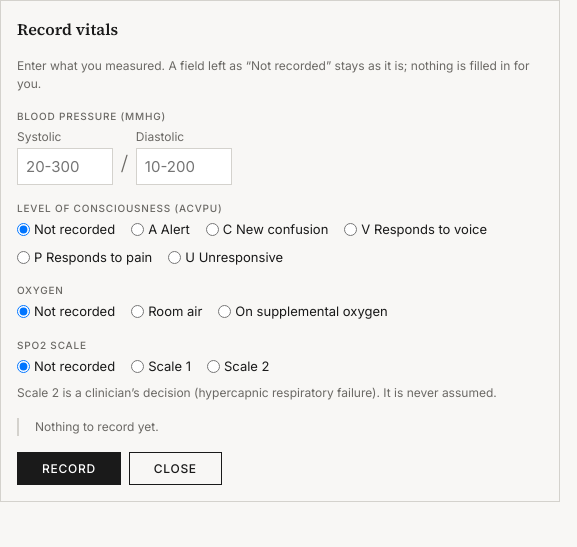
Scenario: a draft that cannot be sent never reaches the network › refuses a value outside the bounds and says why, in the form
The image size is (577, 547).
Type "400" into the field labelled "Systolic" at (65, 166), box left=17, top=148, right=113, bottom=185
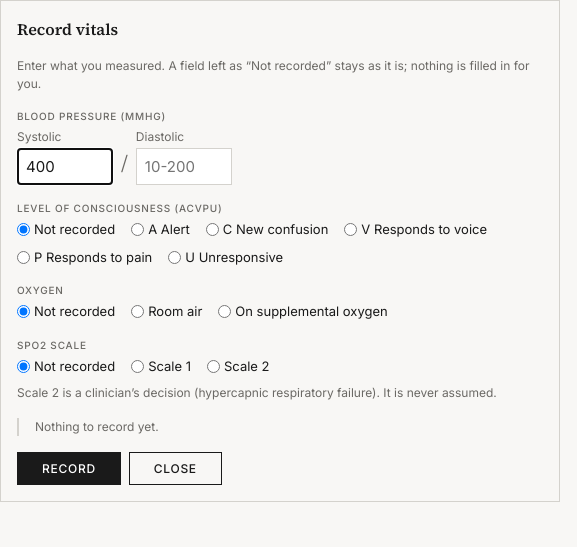
Type "80" into the field labelled "Diastolic" at (184, 166), box left=136, top=148, right=232, bottom=185
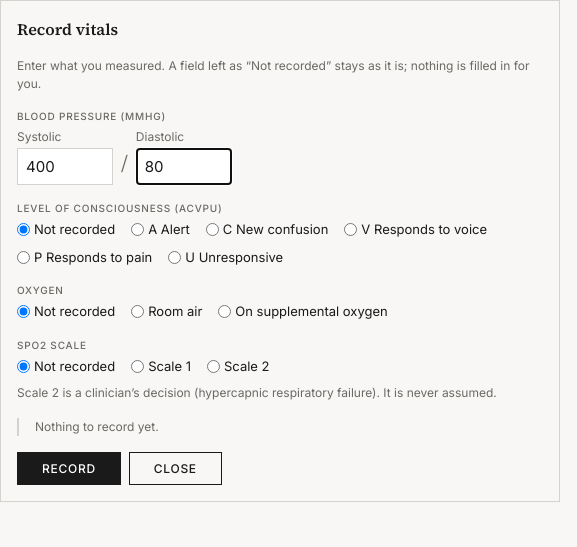
Click the button "Record" at (69, 468), box left=17, top=452, right=121, bottom=485
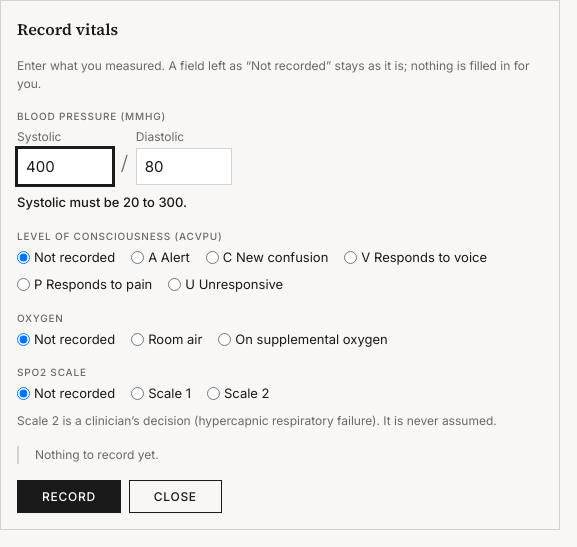
expect the text "Systolic must be 20 to 300." is shown: met, box left=17, top=194, right=187, bottom=210
